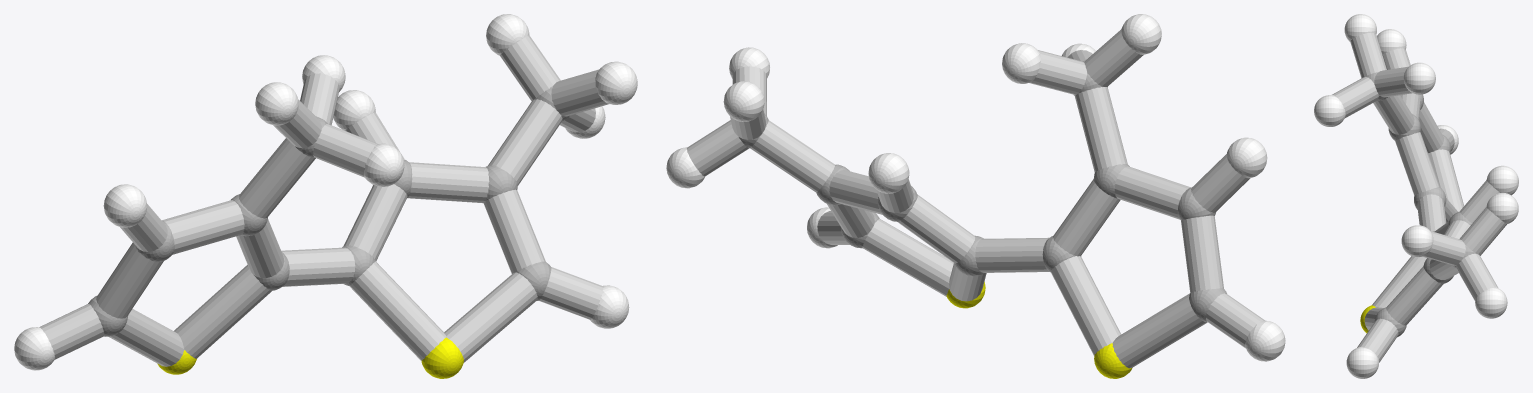
File: Methylthiophene_Phi_20_Theta_120_Methylthiophene.glb
3 views of the same model, side by side, from view 1: azimuth 30°, elevation 25°; view 2: azimuth 150°, elevation 25°; view 3: azimuth 270°, elevation 25° (orthographic). The views are drawn at different scales.
Visible parts, largest first — view 1: grp7965, grp3621, grp1, grp7241; view 2: grp7965, grp3621, grp1, grp7241; view 3: grp7965, grp3621, grp1.
Boxes of the visible parts, left/top/right/bottom form: grp7965: left=39, top=35, right=608, bottom=366; grp3621: left=14, top=14, right=637, bottom=370; grp1: left=88, top=86, right=569, bottom=336; grp7241: left=157, top=337, right=463, bottom=378; grp7965: left=687, top=29, right=1264, bottom=368; grp3621: left=666, top=14, right=1285, bottom=361; grp1: left=739, top=60, right=1226, bottom=322; grp7241: left=946, top=282, right=1132, bottom=378; grp7965: left=1332, top=32, right=1506, bottom=362; grp3621: left=1314, top=14, right=1518, bottom=378; grp1: left=1366, top=72, right=1475, bottom=336.
Size of the model in its own units: 9.82 by 5.22 by 3.79.
